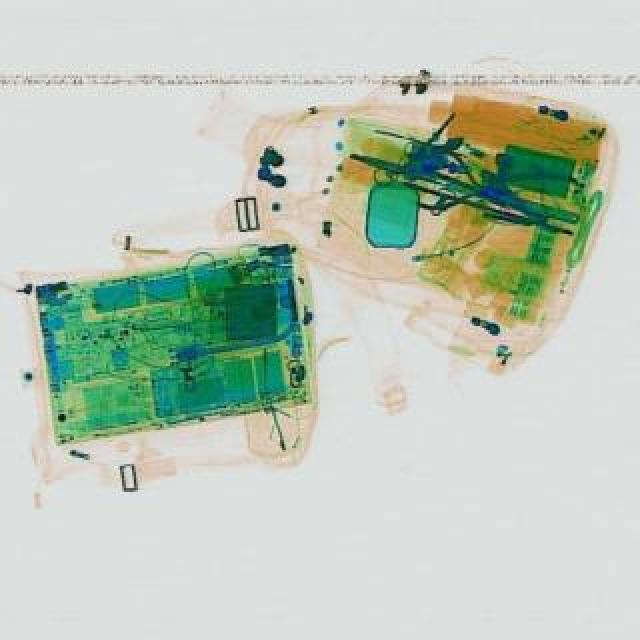wrench: (468, 146, 594, 236), (410, 144, 518, 226)
